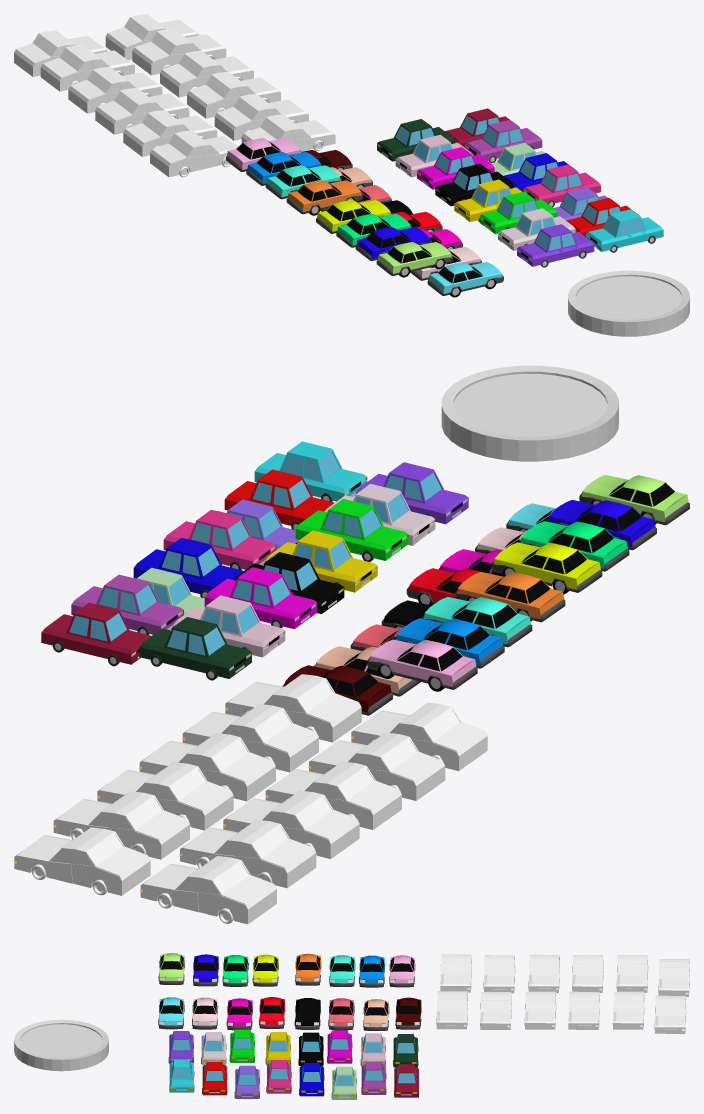
Rendered from Cars de todo tipo y colores.glb.
3 renders of one model, top to bottom at view 1: azimuth 30°, elevation 25°; view 2: azimuth 150°, elevation 25°; view 3: azimuth 270°, elevation 25°, orthographic. The views are drawn at different scales.
Parts seen in each view (by area): view 1: Cylinder.003, Karosserie.012, Karosserie.010, Karosserie.008, Karosserie.003, Karosserie.005, Cube.002, Cube.012, Karosserie.009, Karosserie.004, Karosserie.002, Karosserie.011 (+31 smaller); view 2: Cylinder.003, Karosserie.007, Karosserie.006, Karosserie.008, Karosserie.005, Cube.074, Karosserie.001, Karosserie.012, Karosserie.011, Karosserie.004, Karosserie.002, Karosserie.009 (+31 smaller); view 3: Cylinder.003, Karosserie.005, Karosserie.003, Karosserie.012, Karosserie.001, Karosserie.004, Karosserie.006, Karosserie.002, Karosserie.009, Karosserie.010, Karosserie.011, Karosserie.008 (+45 smaller).
Boxes of the visible parts, x1=… form: Cylinder.003: x1=568, y1=270, x2=689, y2=336; Karosserie.012: x1=150, y1=130, x2=237, y2=177; Karosserie.010: x1=95, y1=88, x2=189, y2=134; Karosserie.008: x1=40, y1=45, x2=134, y2=91; Karosserie.003: x1=187, y1=72, x2=280, y2=118; Karosserie.005: x1=132, y1=28, x2=226, y2=75; Cube.002: x1=517, y1=224, x2=594, y2=266; Cube.012: x1=586, y1=209, x2=663, y2=251; Karosserie.009: x1=68, y1=67, x2=162, y2=113; Karosserie.004: x1=160, y1=50, x2=253, y2=97; Karosserie.002: x1=214, y1=94, x2=308, y2=140; Karosserie.011: x1=123, y1=110, x2=217, y2=156; Cylinder.003: x1=441, y1=365, x2=618, y2=461; Karosserie.007: x1=140, y1=856, x2=276, y2=924; Karosserie.006: x1=14, y1=827, x2=150, y2=895; Karosserie.008: x1=179, y1=819, x2=316, y2=888; Karosserie.005: x1=53, y1=791, x2=189, y2=859; Cube.074: x1=139, y1=617, x2=251, y2=678; Karosserie.001: x1=225, y1=674, x2=361, y2=742; Karosserie.012: x1=351, y1=702, x2=487, y2=771; Karosserie.011: x1=308, y1=732, x2=445, y2=800; Karosserie.004: x1=97, y1=762, x2=233, y2=830; Karosserie.002: x1=182, y1=704, x2=318, y2=772; Karosserie.009: x1=223, y1=790, x2=359, y2=858; Cylinder.003: x1=14, y1=1019, x2=108, y2=1071; Karosserie.005: x1=613, y1=991, x2=644, y2=1029; Karosserie.003: x1=525, y1=991, x2=555, y2=1029; Karosserie.012: x1=440, y1=954, x2=471, y2=992; Karosserie.001: x1=436, y1=991, x2=467, y2=1029; Karosserie.004: x1=568, y1=991, x2=599, y2=1029; Karosserie.006: x1=655, y1=995, x2=685, y2=1033; Karosserie.002: x1=480, y1=992, x2=511, y2=1029; Karosserie.009: x1=572, y1=955, x2=603, y2=992; Karosserie.010: x1=528, y1=954, x2=559, y2=992; Karosserie.011: x1=484, y1=955, x2=514, y2=993; Karosserie.008: x1=617, y1=955, x2=647, y2=992.
Size of the model in its own units: 23.73 by 4.56 by 55.54.
